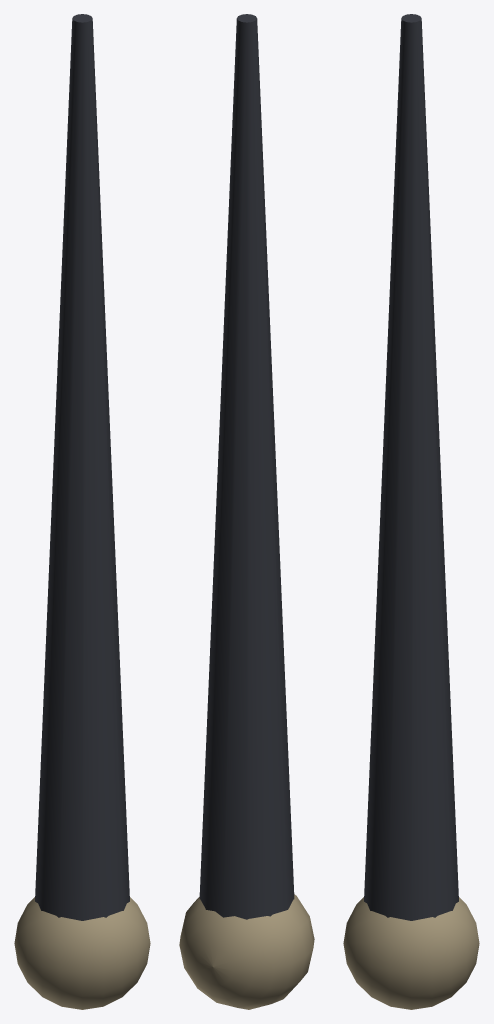
The model's file is griever_lower.obj.
3 renders of one model, left to right at view 1: azimuth 90°, elevation 25°; view 2: azimuth 150°, elevation 25°; view 3: azimuth 270°, elevation 25°, orthographic.
Bounding box in the file's own units: 0.16 × 1.28 × 0.16.
